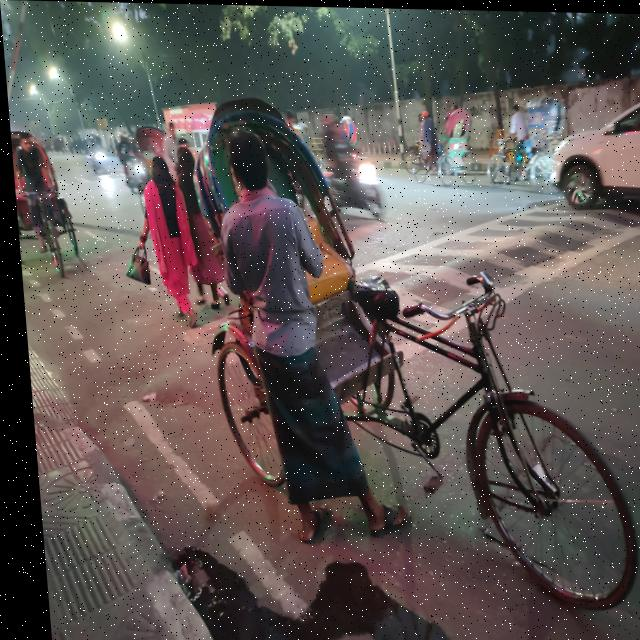rikshaw: (174, 100, 613, 599)
